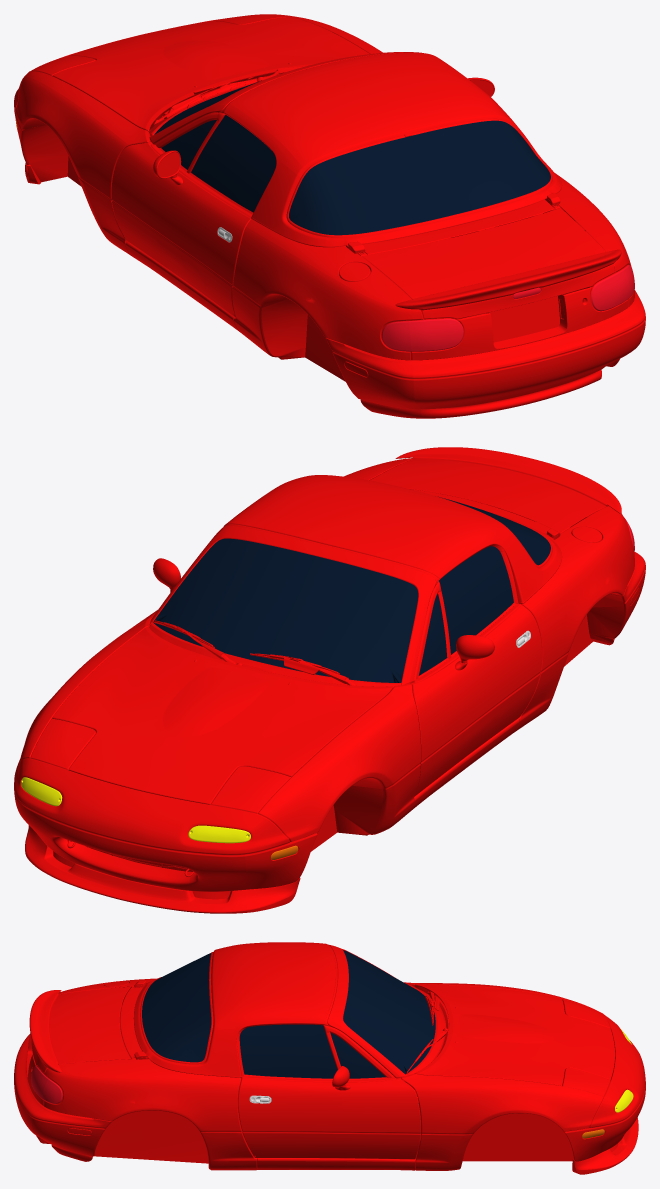
File: MiataFixed.glb
3 renders of one model, top to bottom at view 1: azimuth 30°, elevation 25°; view 2: azimuth 150°, elevation 25°; view 3: azimuth 270°, elevation 25°, orthographic. The views are drawn at different scales.
Parts seen in each view (by area): view 1: Obj0, Windows, TailLights; view 2: Obj0, Windows, RunningLights; view 3: Obj0, Windows, TailLights.
Boxes of the visible parts, x1,y1,x2,y2 form: Obj0: (14,14,645,418); Windows: (154,81,550,235); TailLights: (382,265,634,351); Obj0: (14,447,645,913); Windows: (153,496,550,682); RunningLights: (21,777,250,843); Obj0: (14,942,645,1174); Windows: (142,950,435,1078); TailLights: (31,1066,62,1103).
Bounding box in the file's own units: 74.02 × 44.37 × 160.
